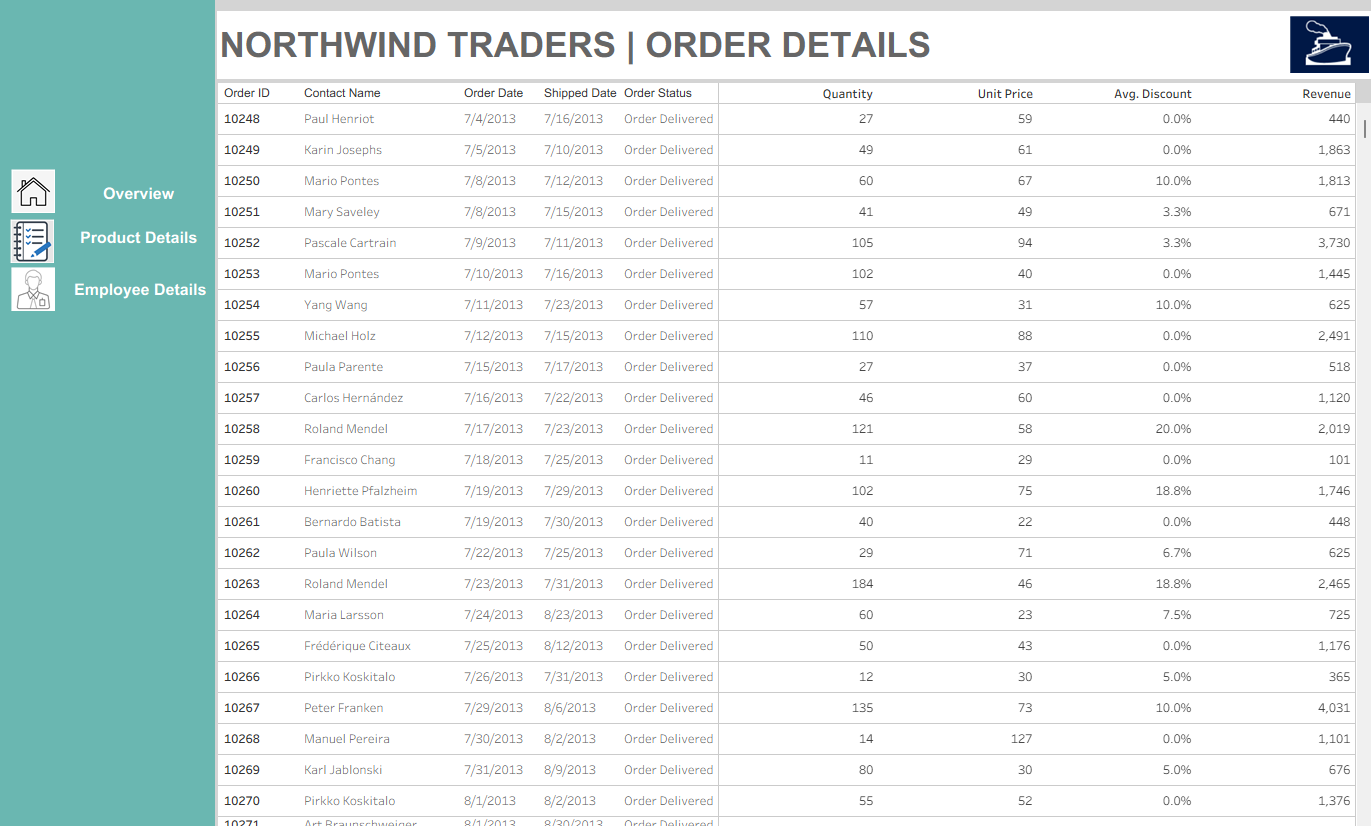

The dashboard page shown, as its layout file describes it:
{"tool":"tableau","page":{"name":"Order","canvas":[1400,850],"ordinal":2},"visuals":[{"type":"text","box":[231,21,1156,68]},{"type":"image","param":"Image/Screenshot 2025-07-04 114901.png","box":[1304,24,79,61]},{"type":"worksheet","title":"Order Details","mark":"Automatic","rows":["orderID","contactName","orderDate","shippedDate","Calculation_1048775791111856128"],"box":[232,93,1155,745]},{"type":"dashboard-object","box":[77,178,152,52]},{"type":"image","param":"Image/Overview 1.jpg","box":[18,179,59,44]},{"type":"dashboard-object","box":[76,222,155,52]},{"type":"image","param":"Image/Product.png","box":[17,229,59,44]},{"type":"dashboard-object","box":[78,274,152,52]},{"type":"image","param":"Image/Employee 1.png","box":[18,277,59,44]}]}

Visuals, with their boxes in screenshot pixels (x1, y1, x2, y2), scaled from the page's 1400x850 canvas onto the 1371x826 screenshot:
text: BBox(226, 20, 1358, 86)
image: BBox(1277, 23, 1354, 83)
"Order Details" worksheet: BBox(227, 90, 1358, 814)
dashboard-object: BBox(75, 173, 224, 224)
image: BBox(18, 174, 75, 217)
dashboard-object: BBox(74, 216, 226, 266)
image: BBox(17, 223, 74, 265)
dashboard-object: BBox(76, 266, 225, 317)
image: BBox(18, 269, 75, 312)
